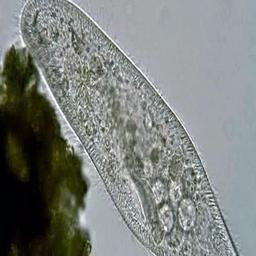Paramecium: (18, 0, 221, 256)
